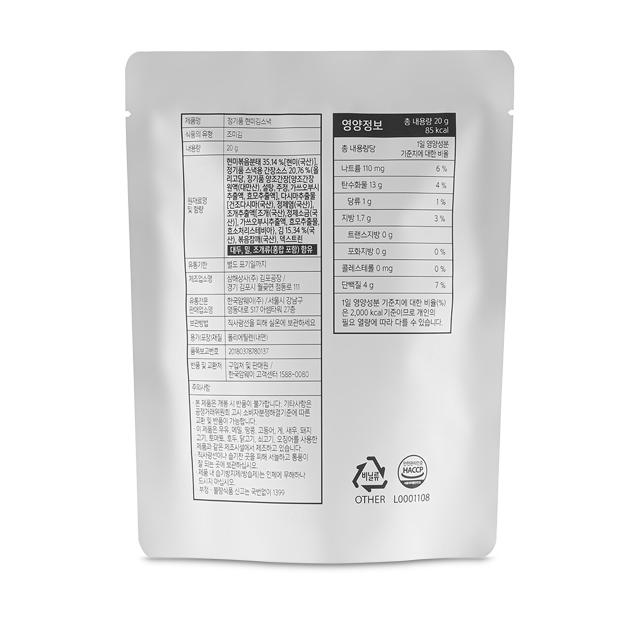Nutrition Label: (327, 110, 467, 344)
